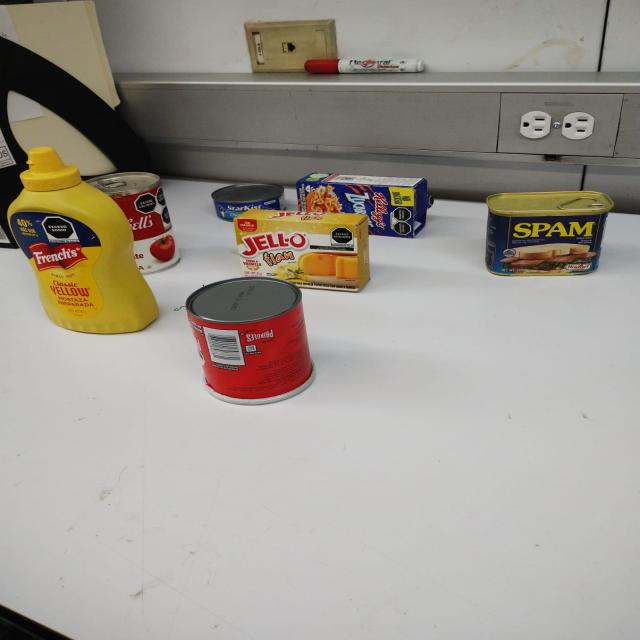can of cream: (84, 172, 181, 278)
can of tuna: (210, 183, 286, 222)
cereal: (295, 174, 430, 242)
chips: (185, 277, 314, 409)
jelly: (231, 208, 370, 292)
mustard: (8, 149, 160, 333)
spam: (483, 191, 609, 277)
